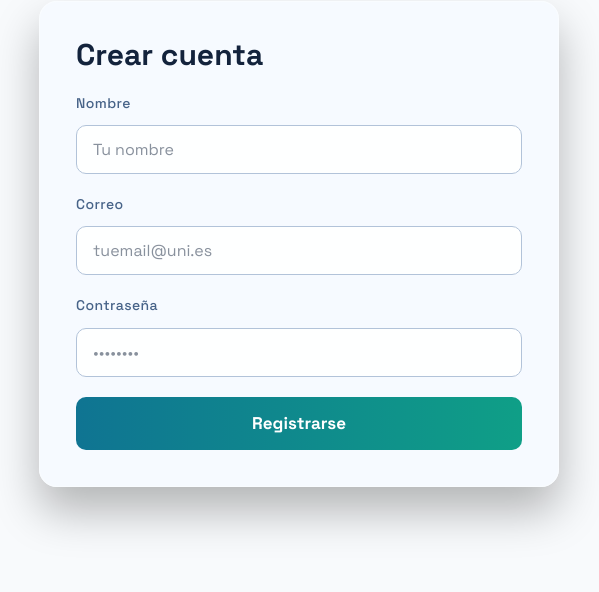
Register page › shows required field errors
The width and height of the screenshot is (599, 592).
What coordinates should you click on to do the following:
click the button "Registrarse"
I would click on:
 (299, 424)
Its box is x1=76 y1=397 x2=522 y2=450.
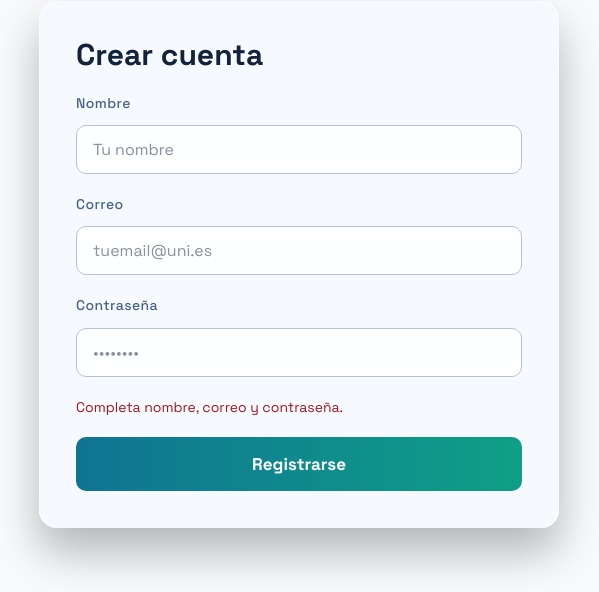
Now the text "Completa nombre, correo y contraseña." is shown, box x1=76 y1=398 x2=343 y2=416
